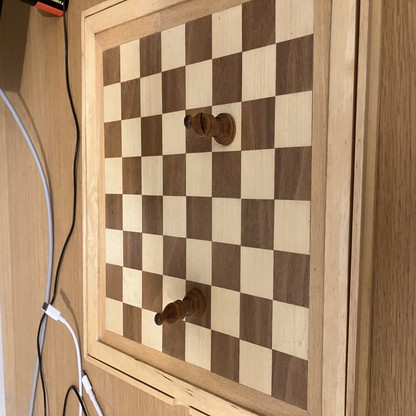bishop_black: (184, 112, 236, 145), (155, 291, 206, 324)
